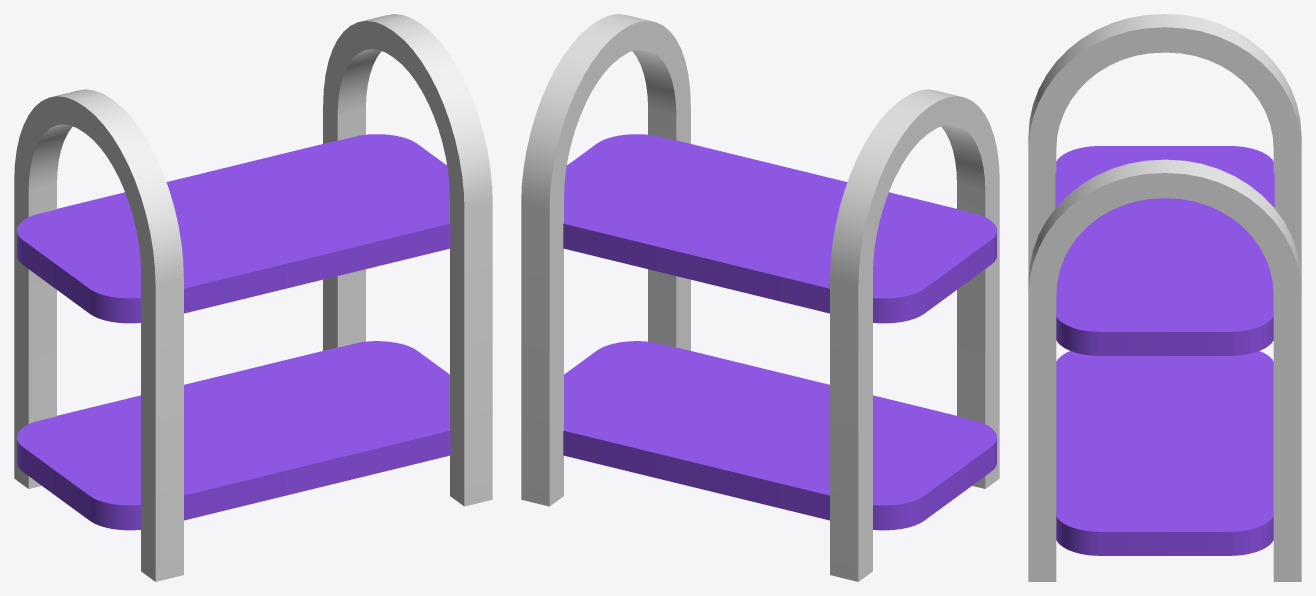
File: Rack Violet.fbx
The picture shows the model from 3 angles, left to right: view 1: azimuth 30°, elevation 25°; view 2: azimuth 150°, elevation 25°; view 3: azimuth 270°, elevation 25°; orthographic projection. The views are drawn at different scales.
Visible parts, largest first — view 1: Rack Violet; view 2: Rack Violet; view 3: Rack Violet.
Boxes of the visible parts, x1,y1,x2,y2 form: Rack Violet: [14, 14, 492, 581]; Rack Violet: [521, 14, 999, 581]; Rack Violet: [1028, 14, 1301, 581].
Bounding box in the file's own units: 138 × 141 × 85.46.
